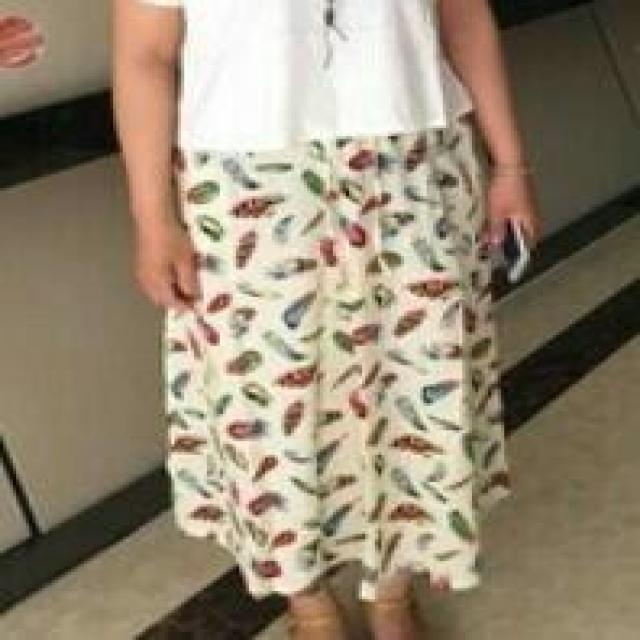short sleeve top: (113, 0, 475, 150)
skirt: (165, 106, 511, 572)
